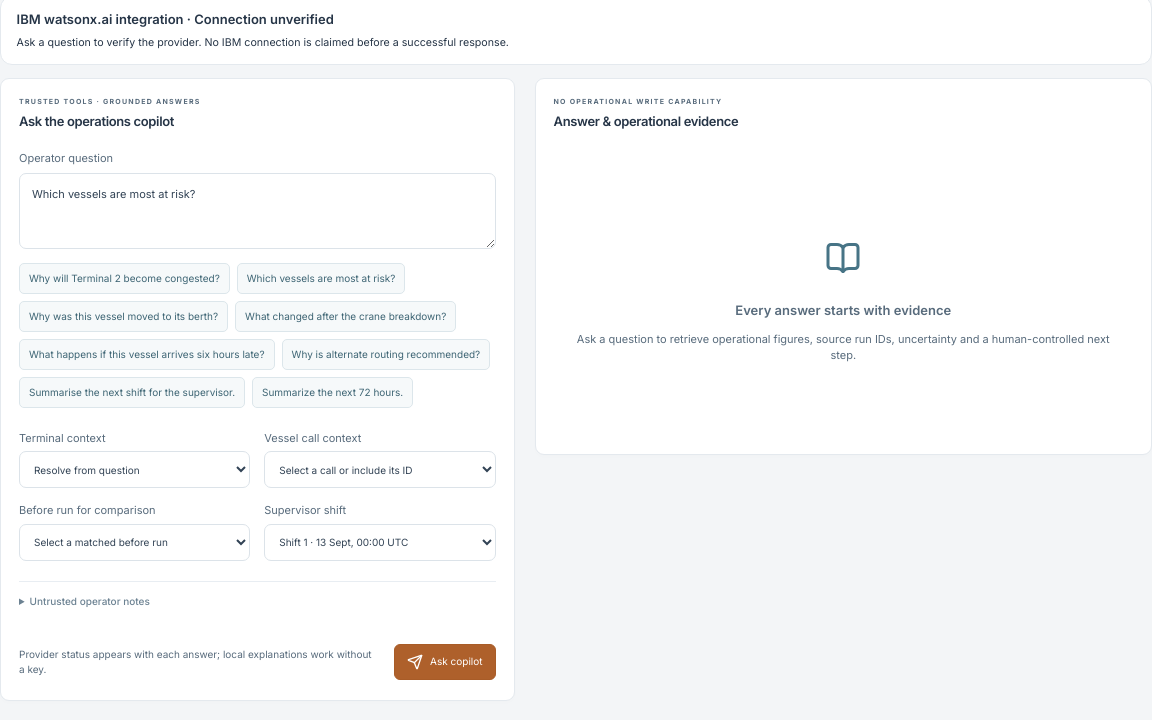
keeps request failures visible and permits a real retry
This screenshot has width=1152, height=720.
(page scrolled)
Click the button "Ask copilot" at (445, 662), box [394, 644, 496, 680]
(page scrolled)
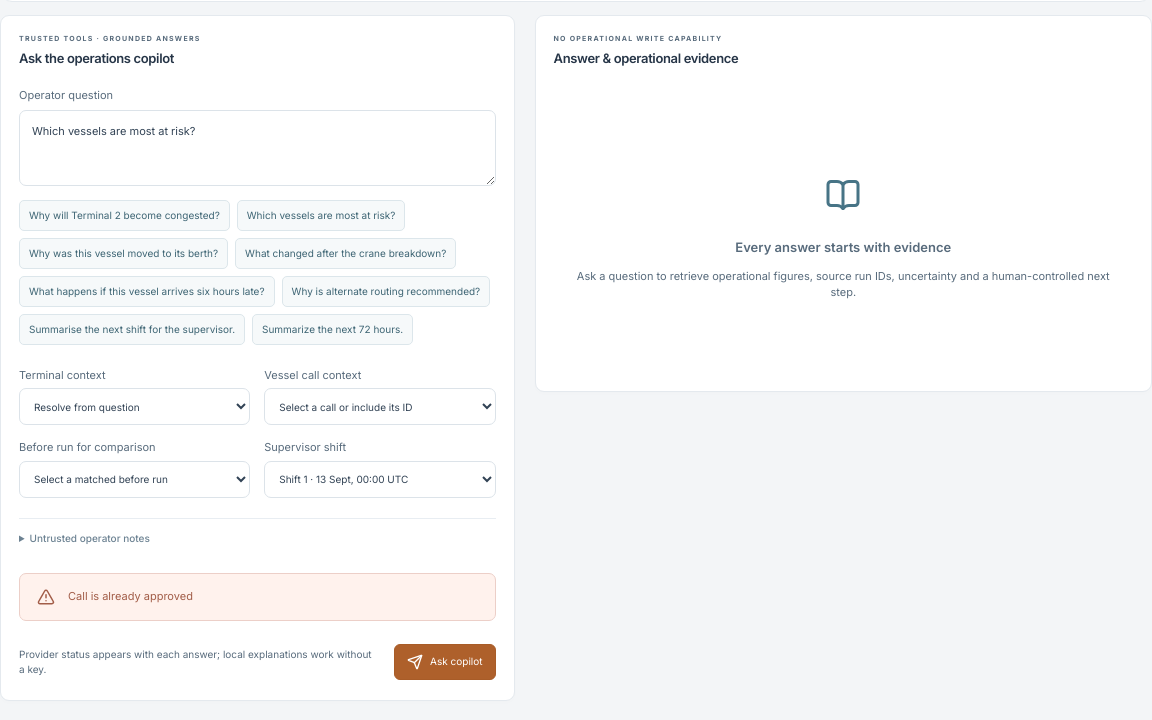
Now the message "Call is already approved" is shown, box [19, 573, 496, 621]
Click the button "Ask copilot" at (445, 662), box [394, 644, 496, 680]
(page scrolled)
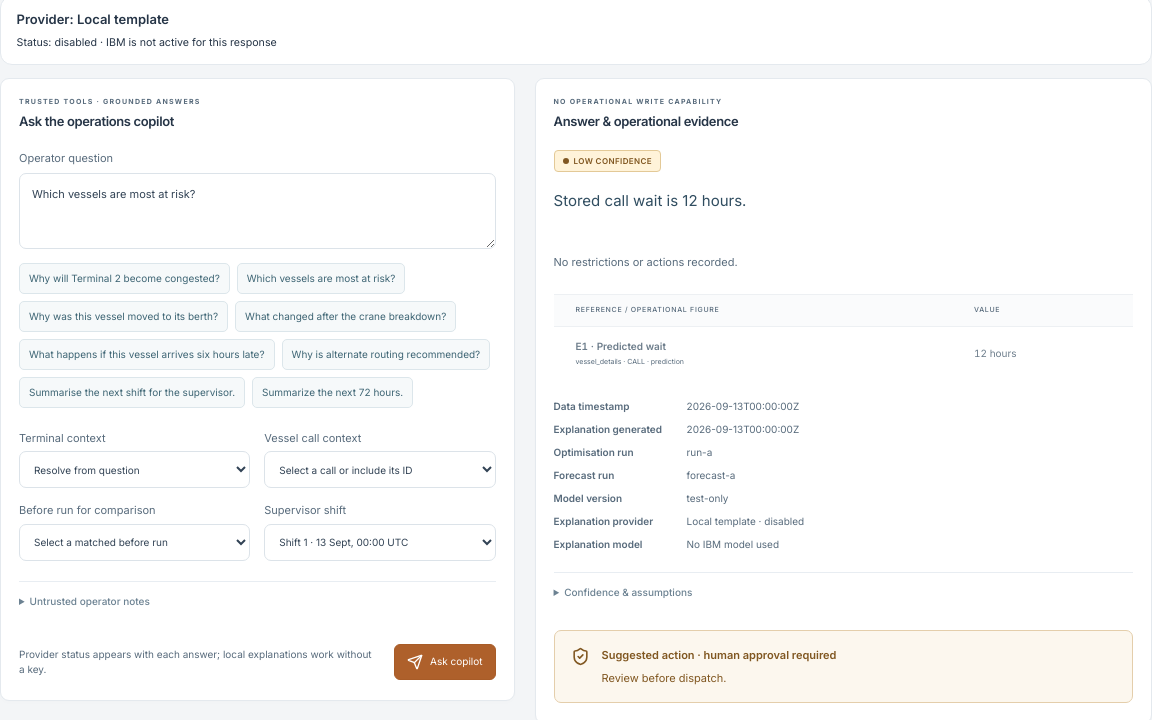
Now the text "Stored call wait is 12 hours." is shown, box [554, 191, 746, 210]
